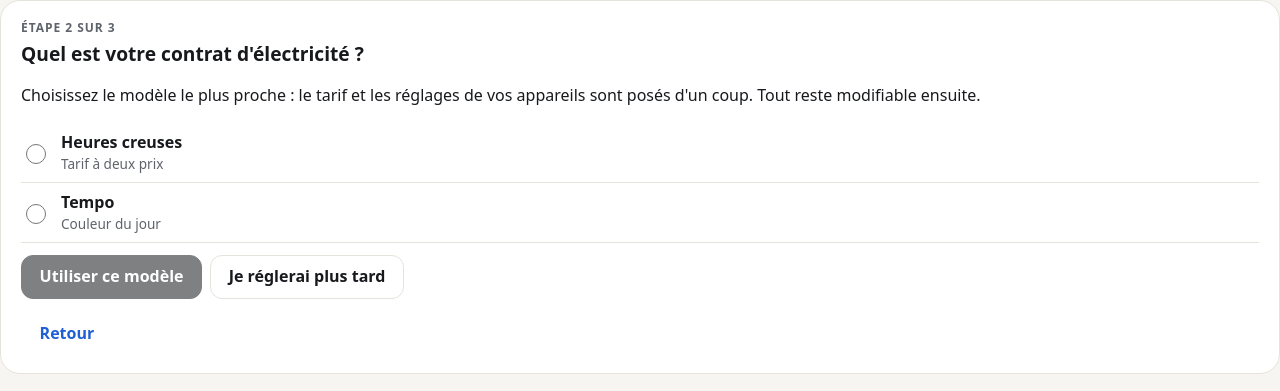
Test: Onboarding › reprend à la première étape pas encore faite, et laisse le contrat pour plus tard
This screenshot has width=1280, height=391.
Expected: the text "Étape 2 sur 3" is shown, [21,19,116,36]
Click the button "Je réglerai plus tard".
click(307, 277)  # box [210,255,404,299]
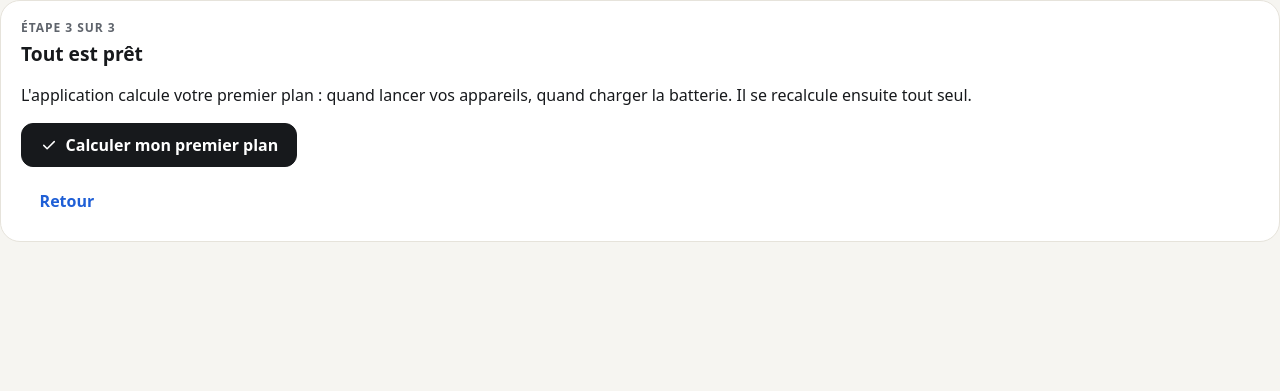
Expected: the heading "Tout est prêt" is shown, [21,40,143,67]
